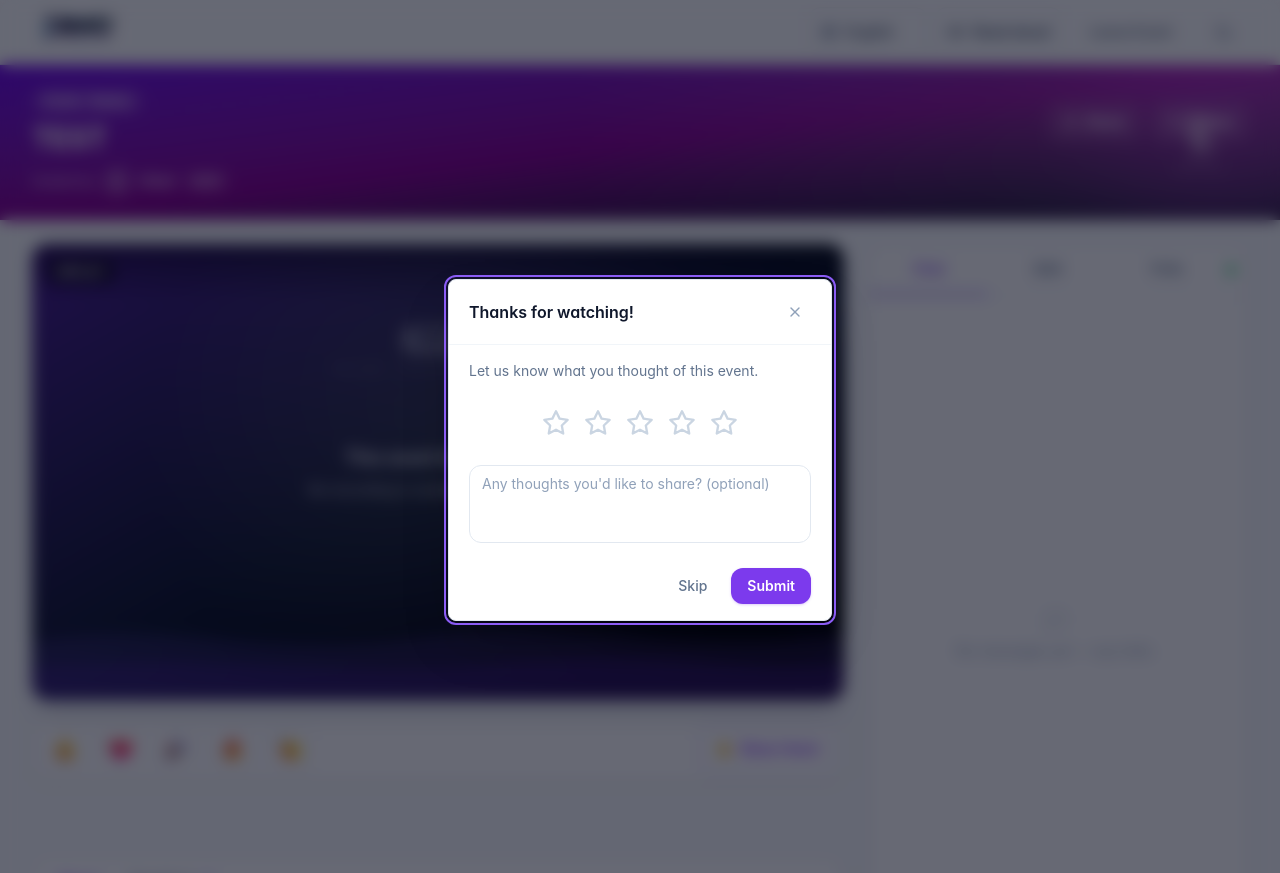
Test: when the event ends › asks only once, even when the end is signalled again (a reconnect's snapshot)
This screenshot has width=1280, height=873.
Expected: the dialog "Thanks for watching!" is shown, left=448, top=279, right=832, bottom=621
Click the button "Skip": (693, 586) left=662, top=568, right=723, bottom=604
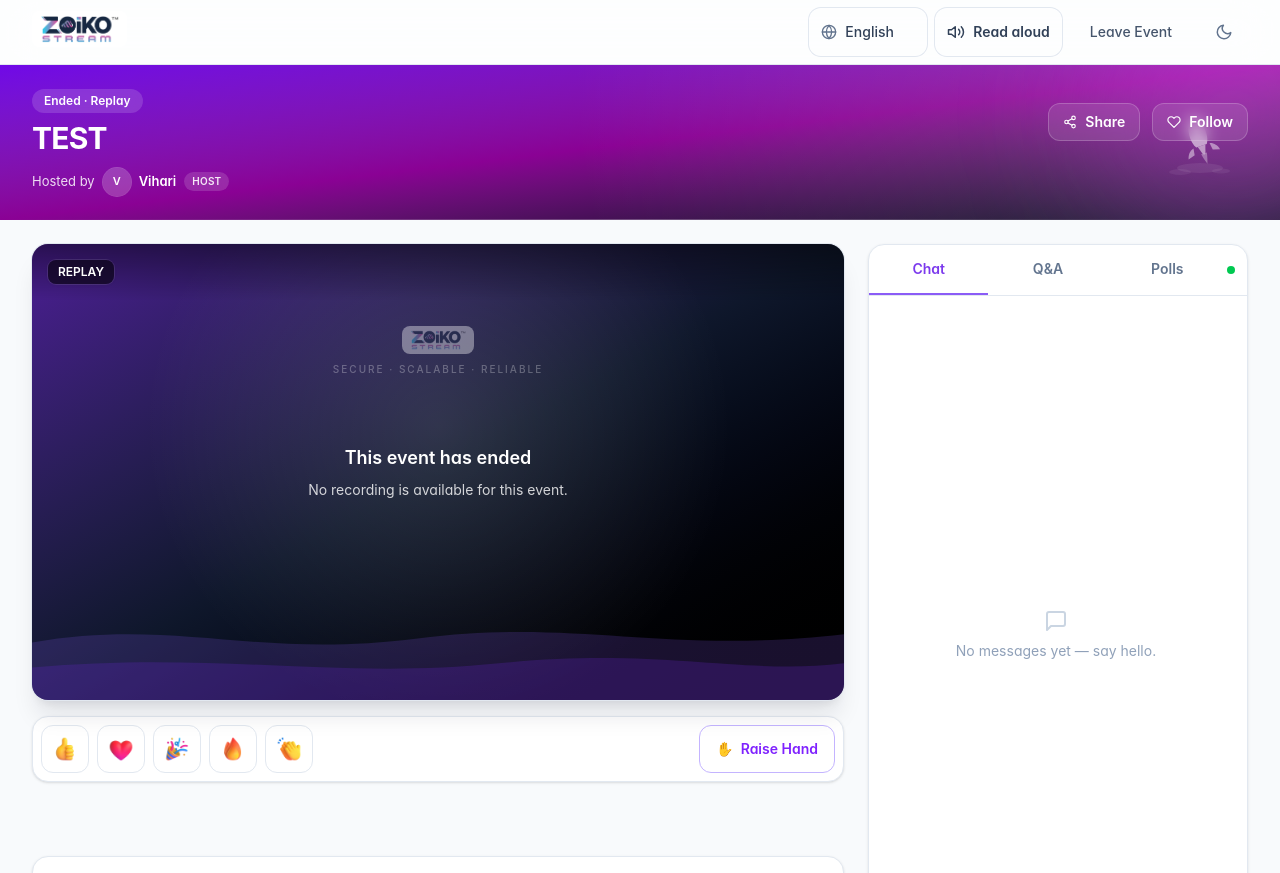
Expected: the heading "Thanks for watching!" is gone
